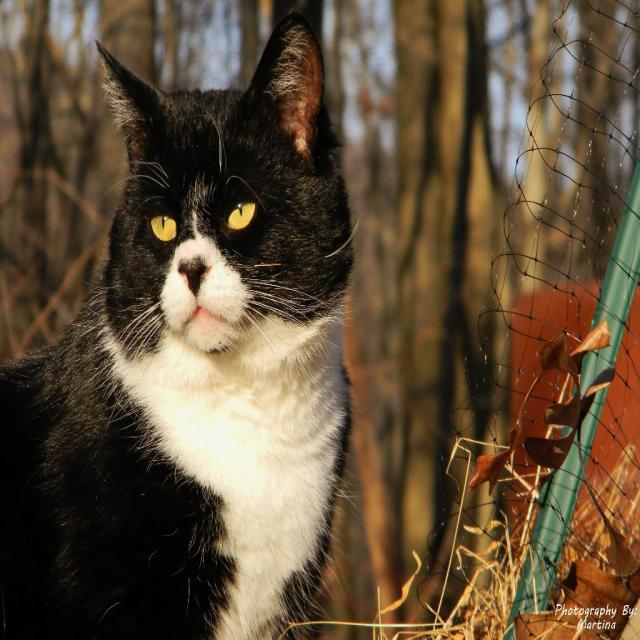Cat: (0, 5, 369, 638)
